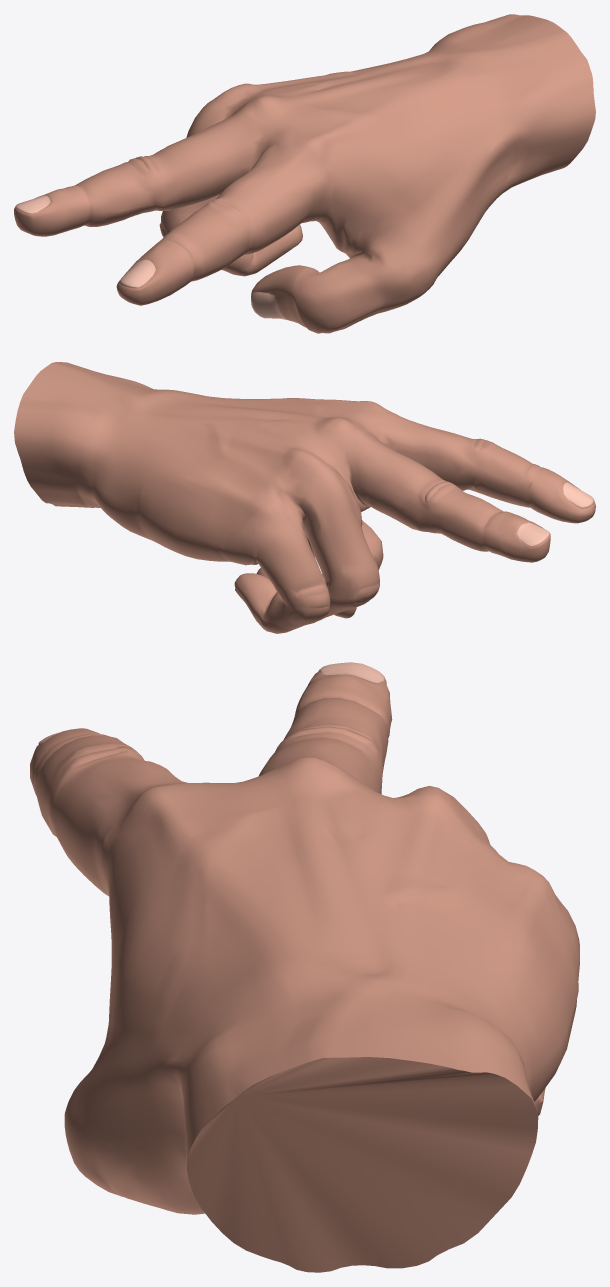
Rendered from hand_27.obj.
3 renders of one model, top to bottom at view 1: azimuth 30°, elevation 25°; view 2: azimuth 150°, elevation 25°; view 3: azimuth 270°, elevation 25°, orthographic. The views are drawn at different scales.
Parts seen in each view (by area): view 1: Figure_2; view 2: Figure_2; view 3: Figure_2.
Boxes of the visible parts, x1,y1,x2,y2 form: Figure_2: (14,14,595,333); Figure_2: (14,362,595,633); Figure_2: (30,662,579,1272).
Size of the model in its own units: 0.8961 by 0.341 by 0.4226.
